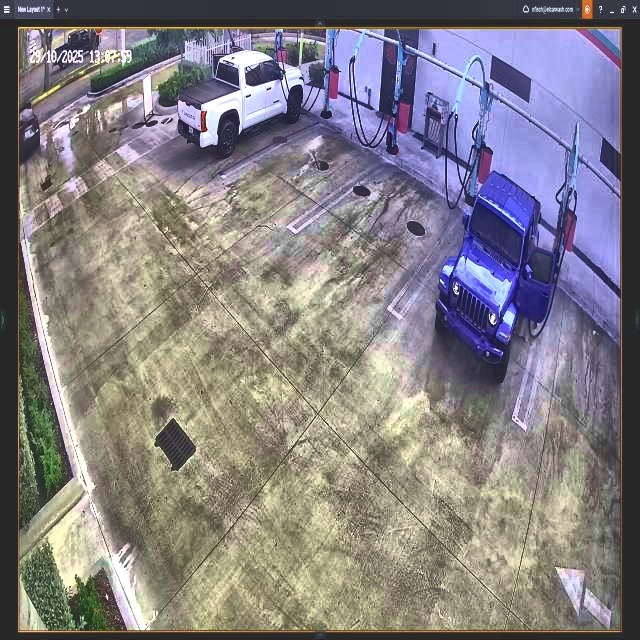Car: (441, 172, 556, 376), (181, 52, 302, 164)
